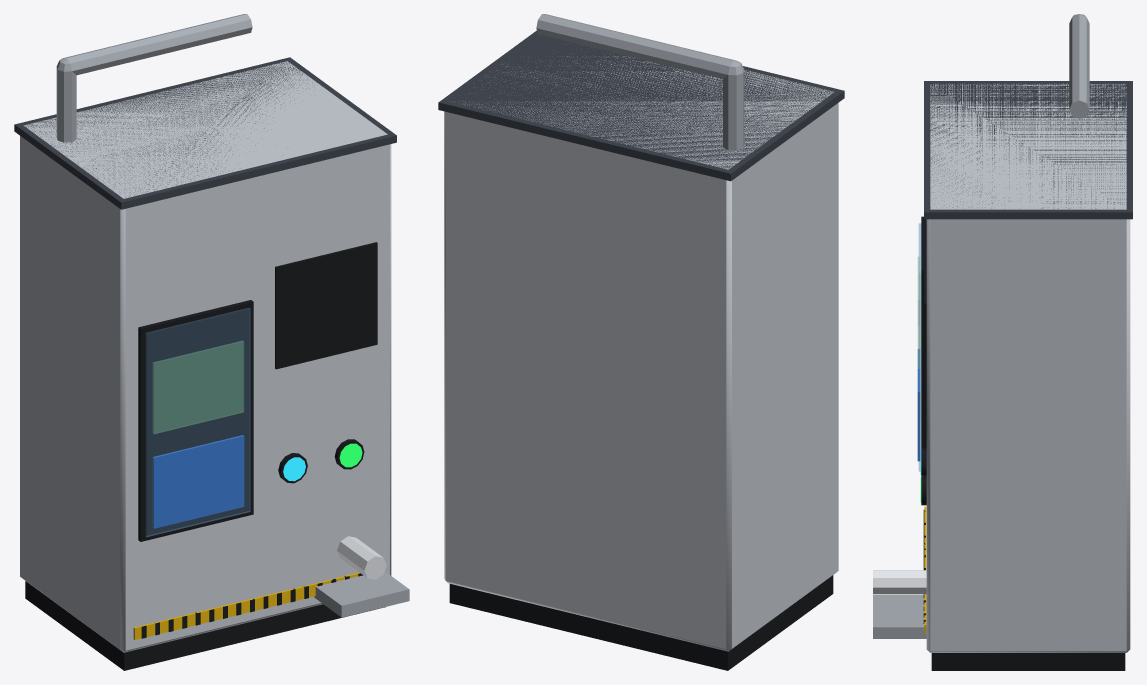
The model's file is watertank_water_recycler.glb.
The picture shows the model from 3 angles, left to right: view 1: azimuth 30°, elevation 25°; view 2: azimuth 150°, elevation 25°; view 3: azimuth 270°, elevation 25°; orthographic projection. The views are drawn at different scales.
Visible parts, largest first — view 1: watertank_water_recycler; view 2: watertank_water_recycler; view 3: watertank_water_recycler.
Part boxes in pixels (x1,y1,x2,y2): watertank_water_recycler: [14, 14, 409, 670]; watertank_water_recycler: [438, 14, 844, 670]; watertank_water_recycler: [873, 14, 1132, 670].
Size of the model in its own units: 1.22 by 2.34 by 1.02.
